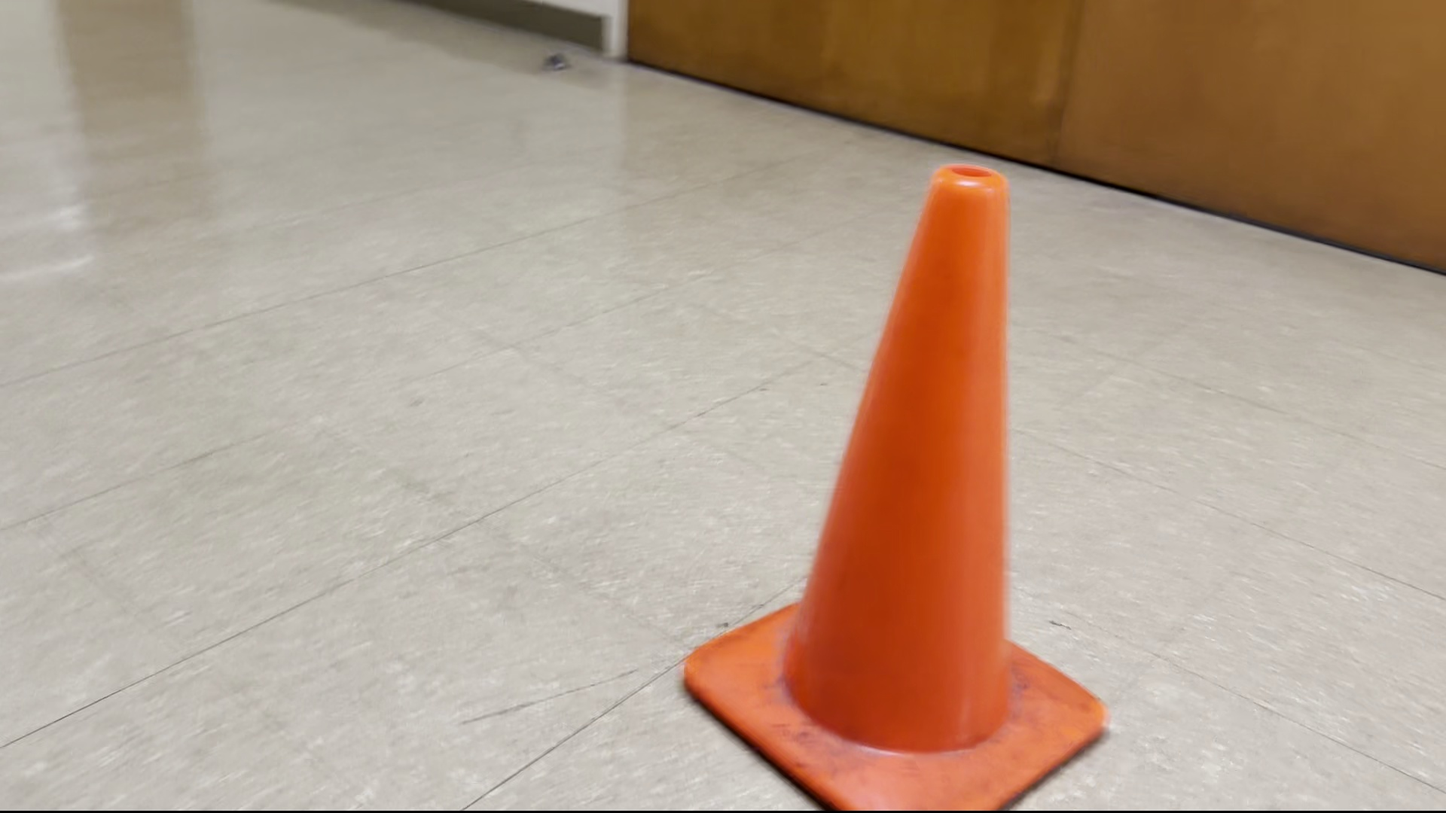traffic_cone: (682, 162, 1109, 811)
